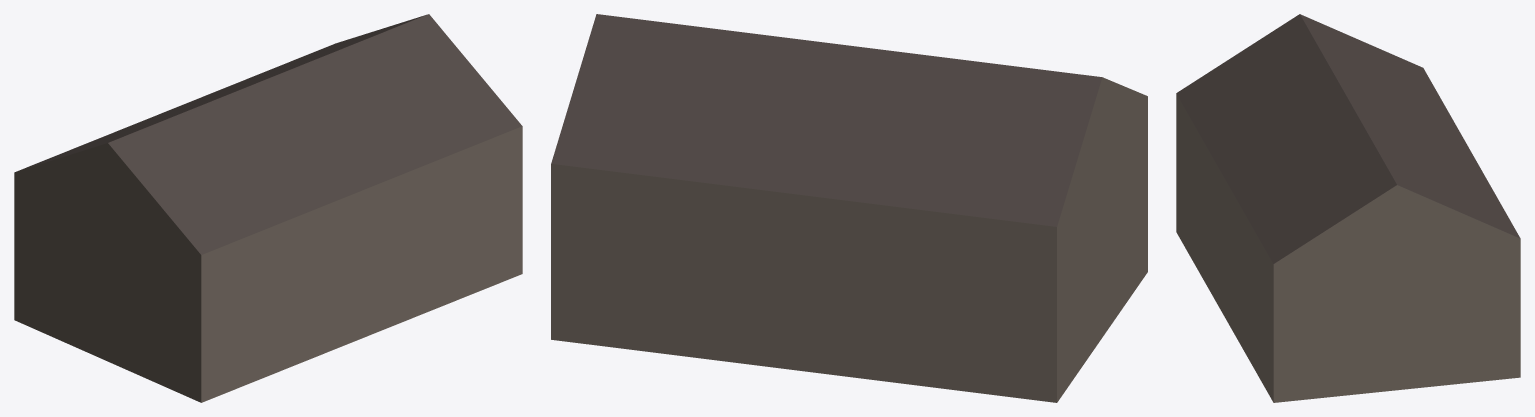
The picture shows the model from 3 angles, left to right: view 1: azimuth 30°, elevation 25°; view 2: azimuth 150°, elevation 25°; view 3: azimuth 270°, elevation 25°; orthographic projection. The views are drawn at different scales.
Parts seen in each view (by area): view 1: HP-w859424264; view 2: HP-w859424264; view 3: HP-w859424264.
Boxes of the visible parts, x1,y1,x2,y2 form: HP-w859424264: (14, 14, 522, 402); HP-w859424264: (551, 14, 1147, 402); HP-w859424264: (1176, 14, 1520, 402).
Bounding box in the file's own units: 18.2 × 8.88 × 13.49.
